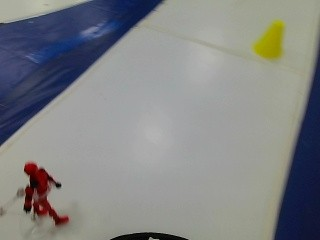cone: (253, 18, 287, 63)
pedestrian: (16, 157, 74, 234)
